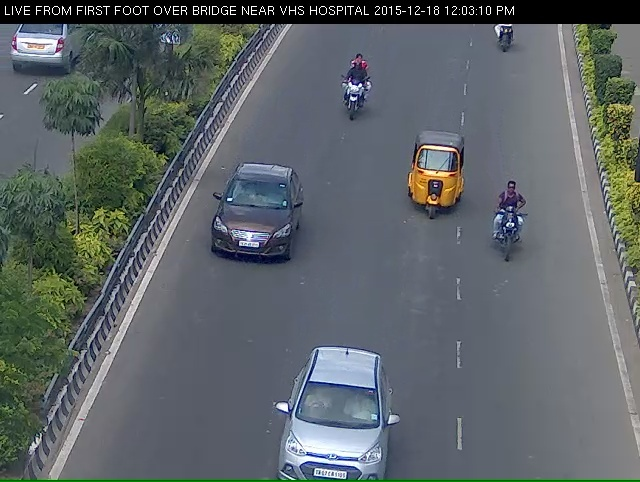Car: (285, 366, 393, 469), (206, 170, 296, 277), (398, 132, 468, 239)
Person: (492, 189, 533, 286), (333, 59, 371, 131)
